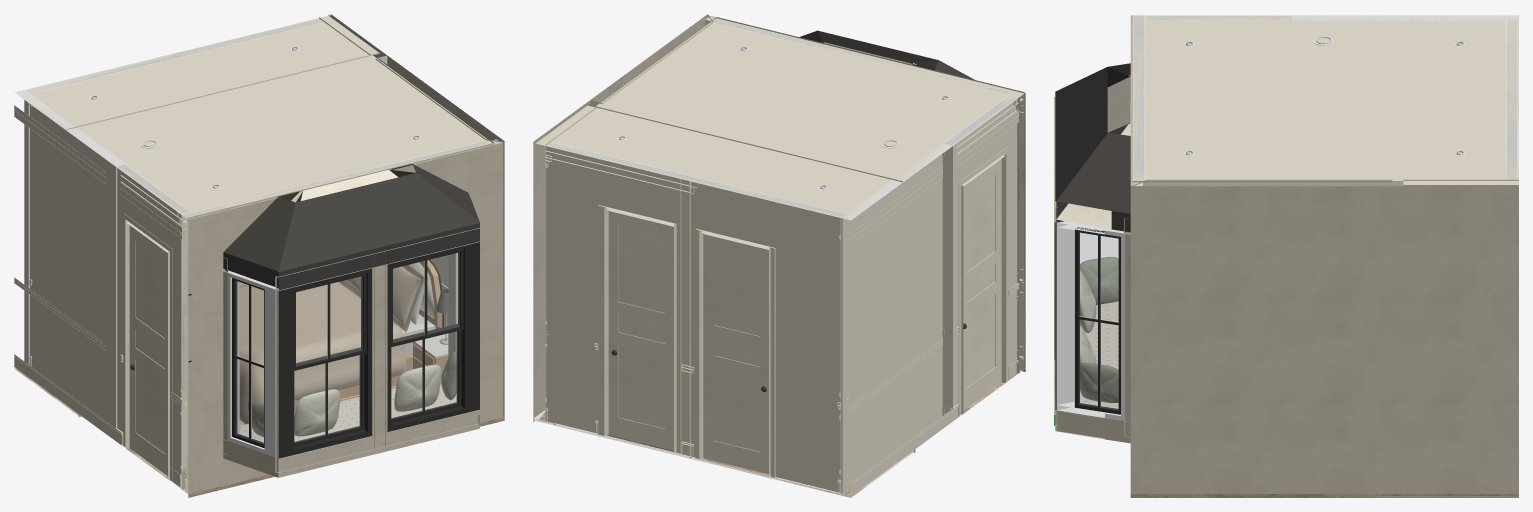
Rendered from loli-bedroom-fa1fc8176a81.glb.
3 renders of one model, left to right at view 1: azimuth 30°, elevation 25°; view 2: azimuth 150°, elevation 25°; view 3: azimuth 270°, elevation 25°, orthographic. The views are drawn at different scales.
Parts seen in each view (by area): view 1: loli-bedroom-dbd60ee5c3733ed6, loli-bedroom-93447d0fea18c81b, loli-bedroom-6a1144f4e43410bb, loli-bedroom-fd1c2425c72e98e4, loli-bedroom-daa4f3edc919433a, loli-bedroom-4cda501b4aaed82b, loli-bedroom-2575515a05775d9e, loli-bedroom-7cd33252cebb505d, loli-bedroom-527014f532f46c8e, loli-bedroom-cf6d22c5317ced0b, loli-bedroom-75b75731e5e739a5, loli-bedroom-68d06b361ac47823 (+21 smaller); view 2: loli-bedroom-0e637d2be41161fb, loli-bedroom-dbd60ee5c3733ed6, loli-bedroom-6a1144f4e43410bb, loli-bedroom-5b37b110dc0e2cdc, loli-bedroom-eceff908bd344cec, loli-bedroom-2575515a05775d9e, loli-bedroom-68d06b361ac47823, loli-bedroom-cf6d22c5317ced0b, loli-bedroom-319244b3406409d9, loli-bedroom-93447d0fea18c81b, loli-bedroom-d6b1bc8c737b28e2, loli-bedroom-8cbce1d8f2f8a576 (+14 smaller); view 3: loli-bedroom-592bd9af2ed71797, loli-bedroom-dbd60ee5c3733ed6, loli-bedroom-319244b3406409d9, loli-bedroom-2575515a05775d9e, loli-bedroom-53e6a9e479527da3, loli-bedroom-daa4f3edc919433a, loli-bedroom-131a246e00605616, loli-bedroom-d8b729a36612415b, loli-bedroom-93447d0fea18c81b, loli-bedroom-0e637d2be41161fb, loli-bedroom-ad11484878029c25, loli-bedroom-e0a3201bd49c7536 (+9 smaller).
Part boxes in pixels (x1,y1,x2,y2): loli-bedroom-dbd60ee5c3733ed6: (77, 54, 494, 218); loli-bedroom-93447d0fea18c81b: (181, 140, 502, 494); loli-bedroom-6a1144f4e43410bb: (14, 90, 125, 428); loli-bedroom-fd1c2425c72e98e4: (279, 268, 371, 458); loli-bedroom-daa4f3edc919433a: (278, 169, 479, 290); loli-bedroom-4cda501b4aaed82b: (388, 242, 479, 431); loli-bedroom-2575515a05775d9e: (17, 15, 380, 130); loli-bedroom-7cd33252cebb505d: (239, 282, 406, 424); loli-bedroom-527014f532f46c8e: (227, 271, 278, 458); loli-bedroom-cf6d22c5317ced0b: (129, 225, 167, 475); loli-bedroom-75b75731e5e739a5: (277, 264, 478, 477); loli-bedroom-68d06b361ac47823: (116, 164, 190, 487); loli-bedroom-0e637d2be41161fb: (545, 141, 847, 493); loli-bedroom-dbd60ee5c3733ed6: (595, 17, 1024, 182); loli-bedroom-6a1144f4e43410bb: (842, 143, 952, 495); loli-bedroom-5b37b110dc0e2cdc: (703, 233, 768, 474); loli-bedroom-eceff908bd344cec: (608, 210, 673, 450); loli-bedroom-2575515a05775d9e: (535, 104, 893, 220); loli-bedroom-68d06b361ac47823: (942, 95, 1018, 420); loli-bedroom-cf6d22c5317ced0b: (963, 159, 1001, 410); loli-bedroom-319244b3406409d9: (533, 100, 600, 419); loli-bedroom-93447d0fea18c81b: (709, 15, 1025, 372); loli-bedroom-d6b1bc8c737b28e2: (695, 228, 775, 477); loli-bedroom-8cbce1d8f2f8a576: (961, 153, 1006, 414); loli-bedroom-592bd9af2ed71797: (1130, 179, 1392, 493); loli-bedroom-dbd60ee5c3733ed6: (1132, 15, 1403, 182); loli-bedroom-319244b3406409d9: (1392, 179, 1518, 493); loli-bedroom-2575515a05775d9e: (1403, 15, 1518, 186); loli-bedroom-53e6a9e479527da3: (1056, 221, 1125, 421); loli-bedroom-daa4f3edc919433a: (1055, 67, 1130, 221); loli-bedroom-131a246e00605616: (1056, 124, 1130, 232); loli-bedroom-d8b729a36612415b: (1055, 234, 1130, 443); loli-bedroom-93447d0fea18c81b: (1130, 15, 1146, 185); loli-bedroom-0e637d2be41161fb: (1505, 20, 1518, 179); loli-bedroom-ad11484878029c25: (1147, 177, 1391, 186); loli-bedroom-e0a3201bd49c7536: (1080, 301, 1118, 407).
Size of the model in its own units: 3.62 by 3.05 by 4.12.
42 materials, 8 textured.
